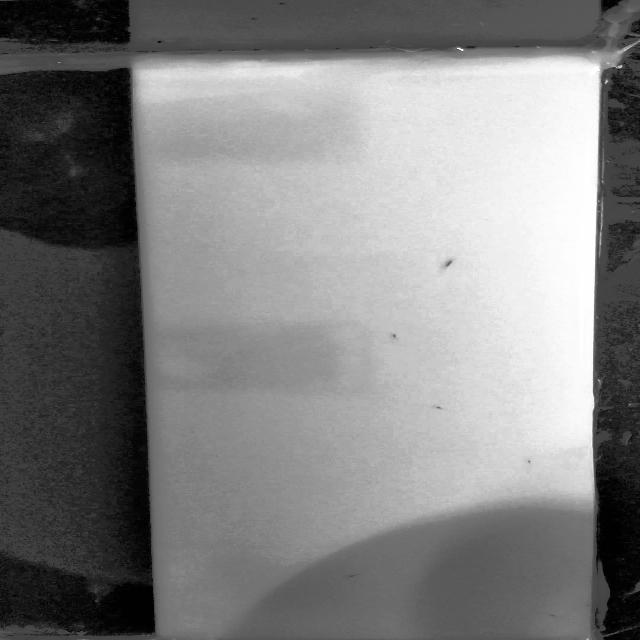shrimp: (424, 253, 472, 275), (332, 566, 376, 584)
